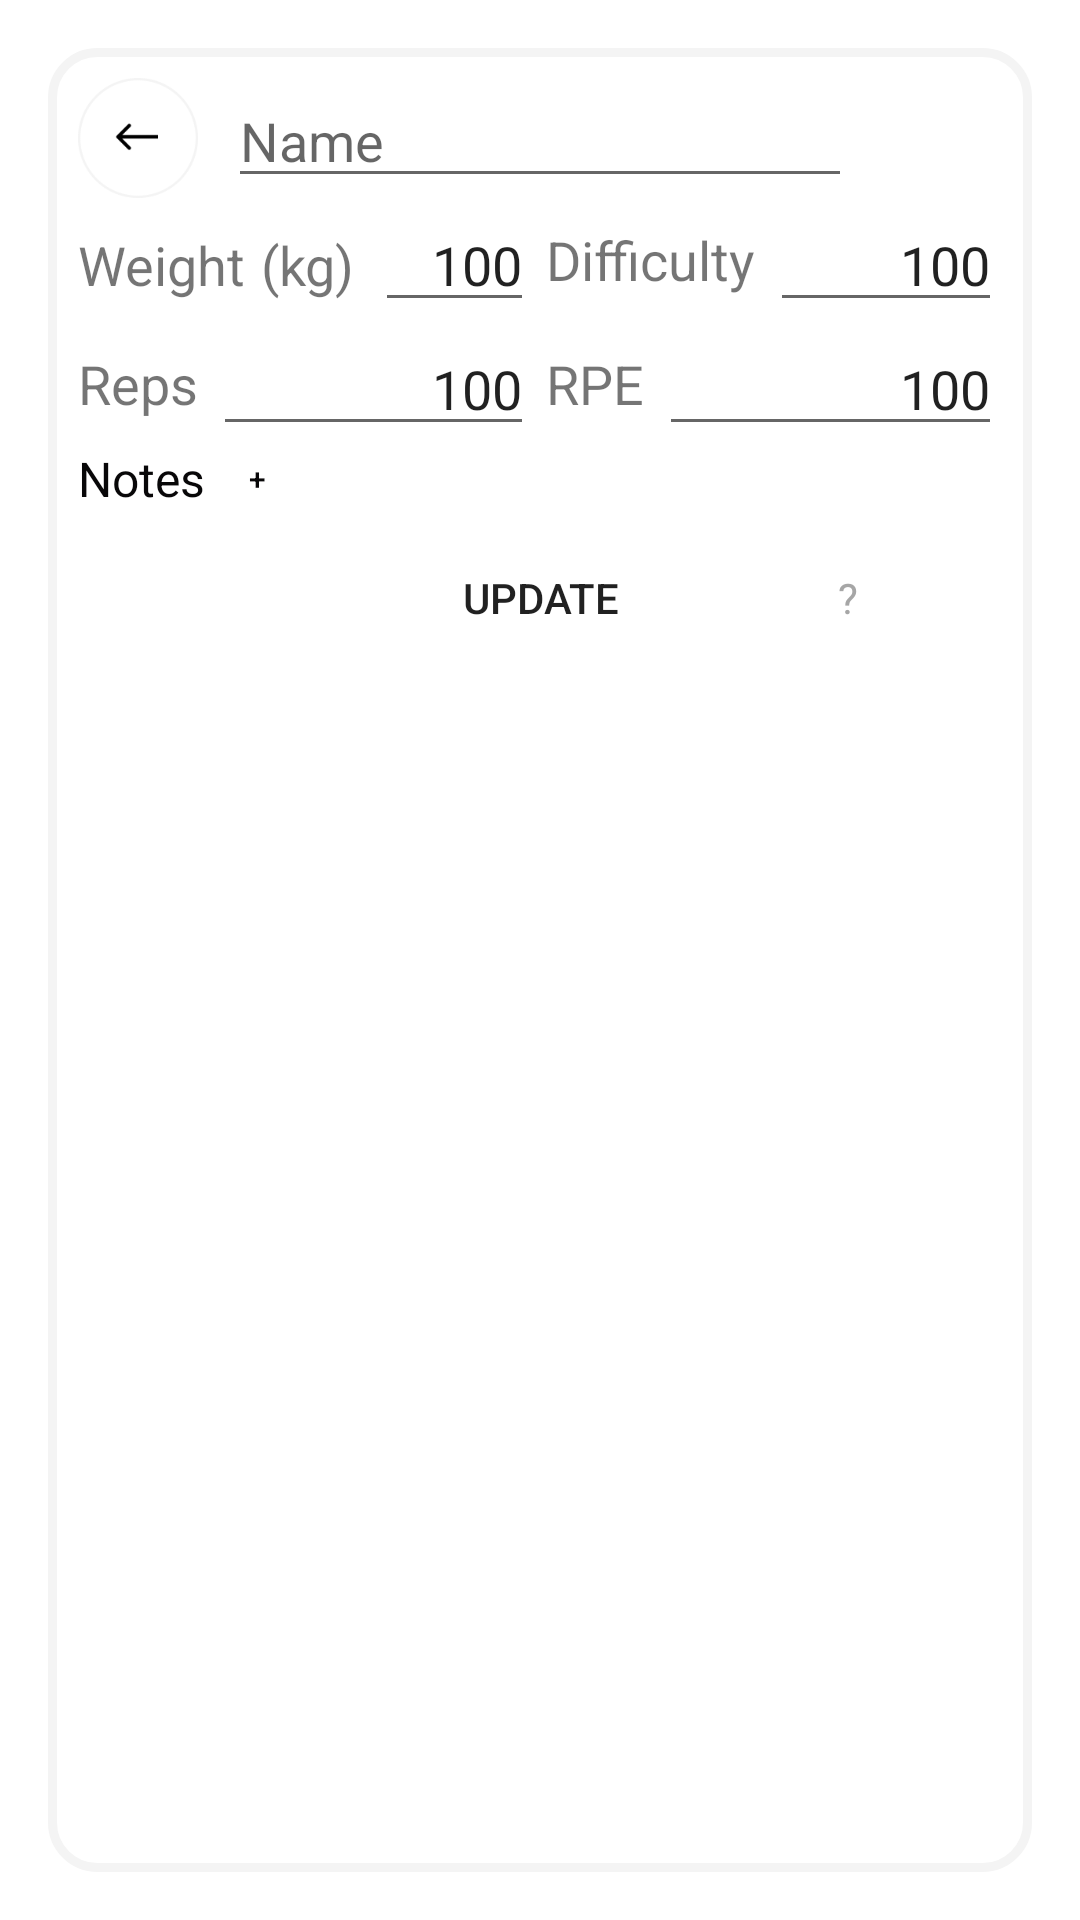

Screen size 1080px×1920px. Icon name, then its center in pixels as [x,y]:
bakcarrow: [133,136]
